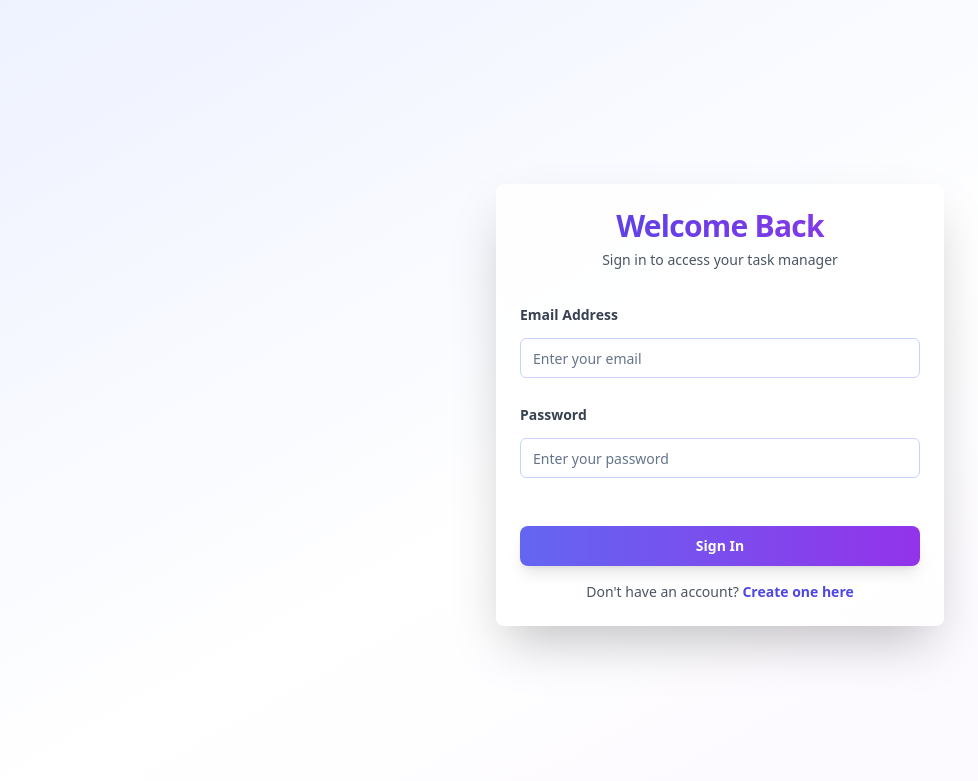
Test: App Integration Tests › handles navigation between authenticated and unauthenticated routes
Expected: the heading "Welcome Back" is shown, 520,208 -> 920,244
Click the link "Create one here" at {"x": 798, "y": 592}, box 742,582 -> 854,601
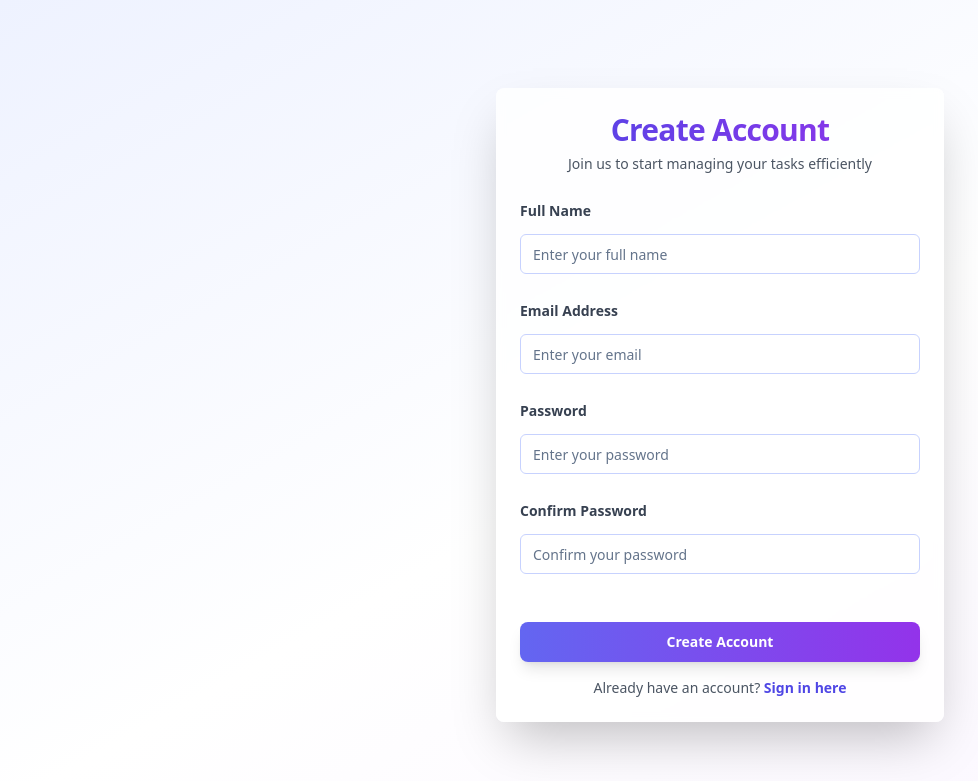
Now the heading "Create Account" is shown, box 520,112 -> 920,148
Click the link "Sign in here" at {"x": 805, "y": 688}, box 764,678 -> 846,697
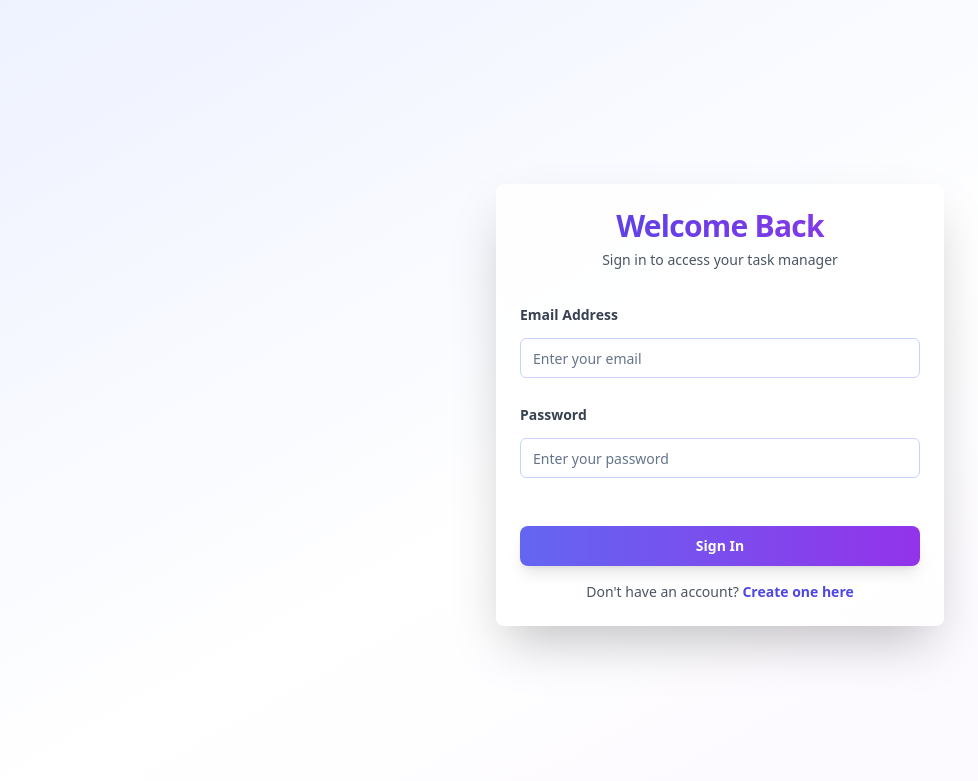
Now the heading "Welcome Back" is shown, box 520,208 -> 920,244
